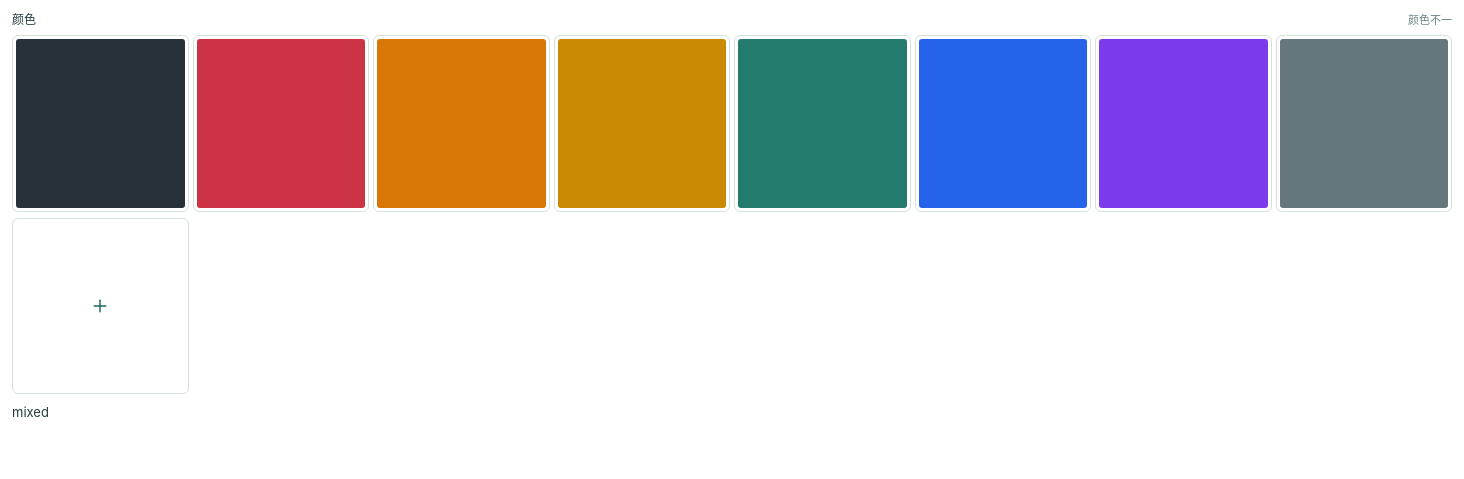
Test: ColorField › keeps mixed colors unselected until the user chooses a color
Check: the text "颜色不一" is shown, box [1408, 10, 1452, 26]
Click the button named "自定义线条颜色".
click(100, 306)  # box [12, 218, 188, 394]
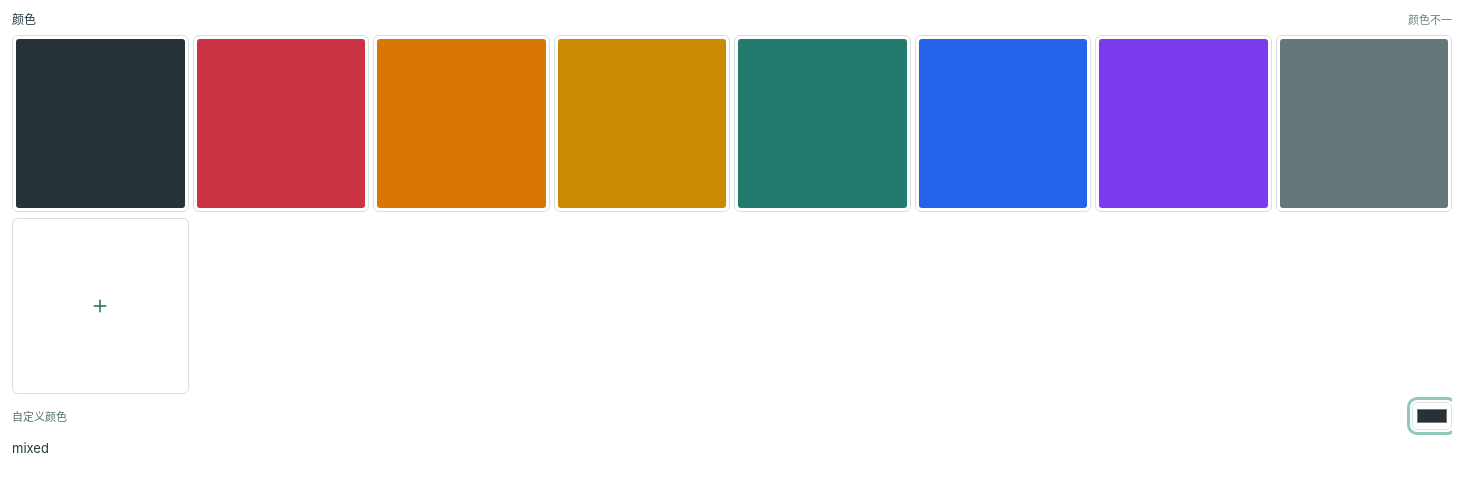
Check: the text named "已应用颜色" reads "mixed", box [12, 440, 49, 456]
Type "#654321" into the colour field named "线条颜色".
click(1432, 416); type("#654321")  # box [1412, 402, 1452, 430]
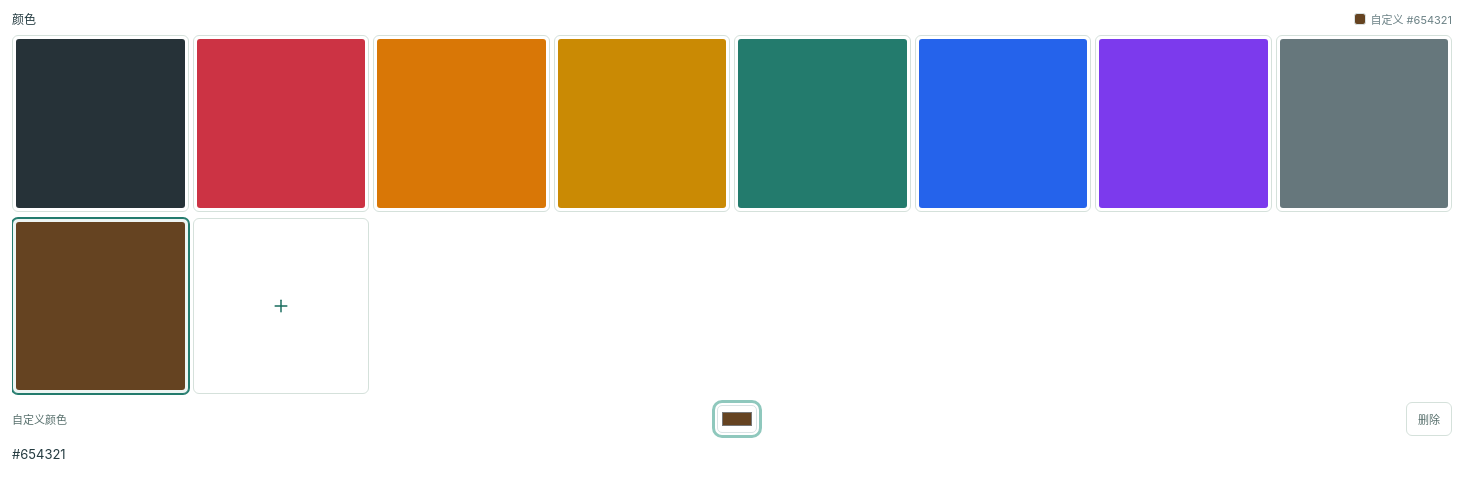
Check: the text named "已应用颜色" reads "#654321", box [12, 446, 66, 462]
Check: the text "颜色不一" is gone
Check: the text "自定义 #654321" is shown, box [1354, 10, 1452, 26]
Click the button named "线条颜色：青绿色".
click(822, 123)  # box [734, 35, 910, 212]
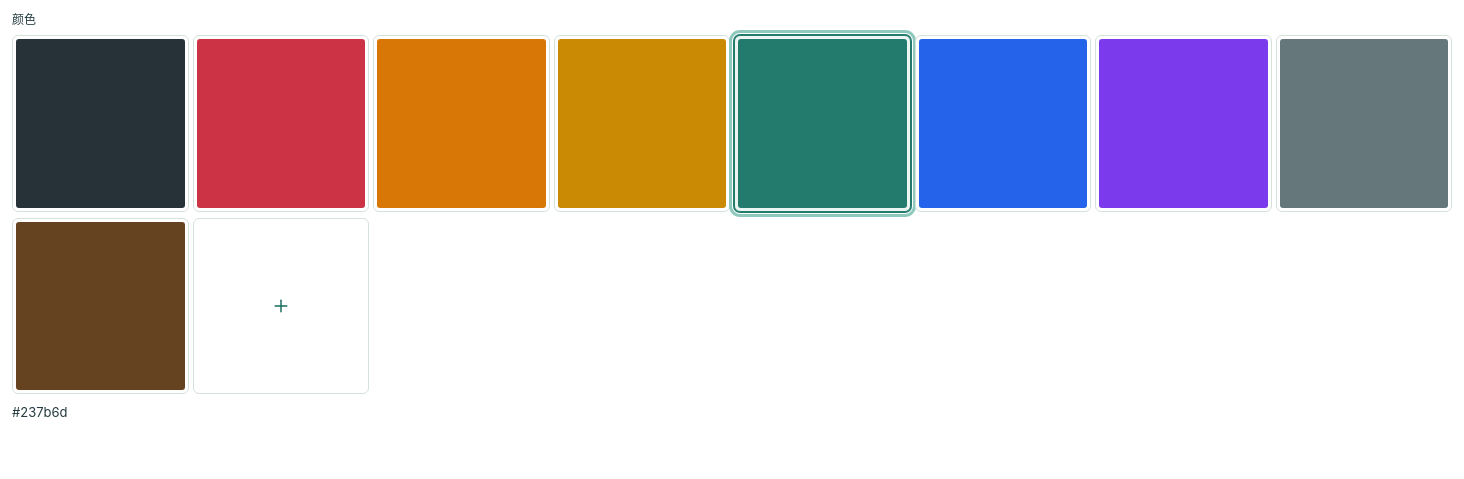
Check: the text named "已应用颜色" reads "#237b6d", box [12, 404, 68, 420]
Check: the text "自定义 #" is gone
